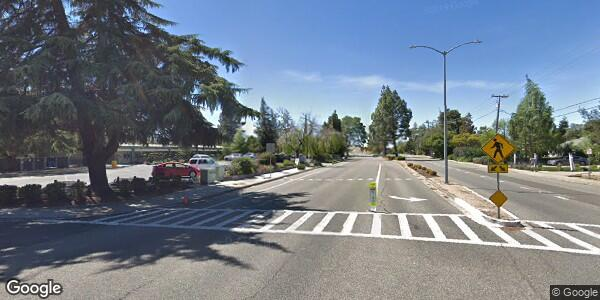Steel_Pole: (407, 38, 485, 184)
Wood_Pole: (489, 92, 510, 133)
